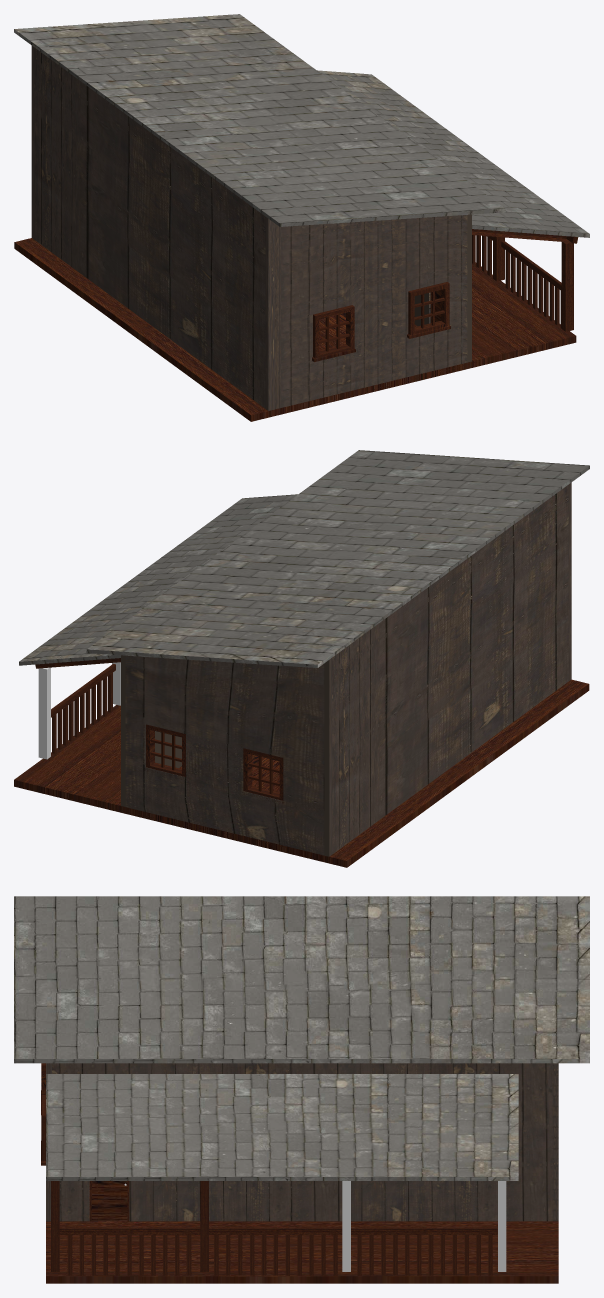
Rendered from SM_Bld_Farmhouse_01.fbx.
The picture shows the model from 3 angles, top to bottom: view 1: azimuth 30°, elevation 25°; view 2: azimuth 150°, elevation 25°; view 3: azimuth 270°, elevation 25°; orthographic projection. The views are drawn at different scales.
Parts seen in each view (by area): view 1: Plane, Side Roof.002, Plane.001, Side Roof.001, Small Window, Small Window.002, Post.008, Ridge Support.001, Cube; view 2: Plane, Side Roof.002, Plane.001, Side Roof.001, Small Window.003, Small Window.001, Post.004, Cube.024; view 3: Side Roof.002, Side Roof.001, Plane, Plane.001, Cube.037, Cube.024, Cube, Cube.012, Post.006, Post.005, Post.004, Post.008.
Boxes of the visible parts, x1,y1,x2,y2 form: Plane: [31, 45, 471, 410]; Side Roof.002: [14, 14, 505, 226]; Plane.001: [14, 238, 576, 421]; Side Roof.001: [317, 70, 589, 237]; Small Window: [407, 282, 450, 338]; Small Window.002: [312, 305, 355, 361]; Post.008: [561, 240, 573, 331]; Ridge Support.001: [472, 229, 578, 243]; Cube: [501, 240, 561, 290]; Plane: [121, 482, 571, 856]; Side Roof.002: [86, 450, 589, 667]; Plane.001: [14, 679, 589, 867]; Side Roof.001: [19, 494, 297, 665]; Small Window.003: [242, 748, 284, 803]; Small Window.001: [145, 724, 185, 779]; Post.004: [38, 667, 50, 759]; Cube.024: [51, 664, 115, 717]; Side Roof.002: [14, 896, 589, 1063]; Side Roof.001: [46, 1074, 518, 1180]; Plane: [46, 1063, 558, 1221]; Plane.001: [46, 1181, 558, 1283]; Cube.037: [90, 1181, 129, 1220]; Cube.024: [351, 1227, 497, 1234]; Cube: [59, 1227, 200, 1234]; Cube.012: [209, 1227, 342, 1234]; Post.006: [200, 1181, 208, 1271]; Post.005: [342, 1181, 350, 1271]; Post.004: [498, 1181, 506, 1271]; Post.008: [51, 1181, 59, 1271].
Bounding box in the file's own units: 1068 × 619 × 1451.
